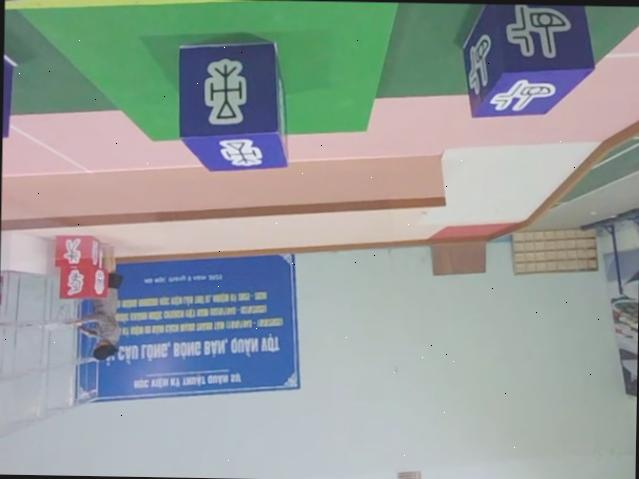R2 Real Blue: (459, 3, 595, 120), (177, 35, 291, 170)
